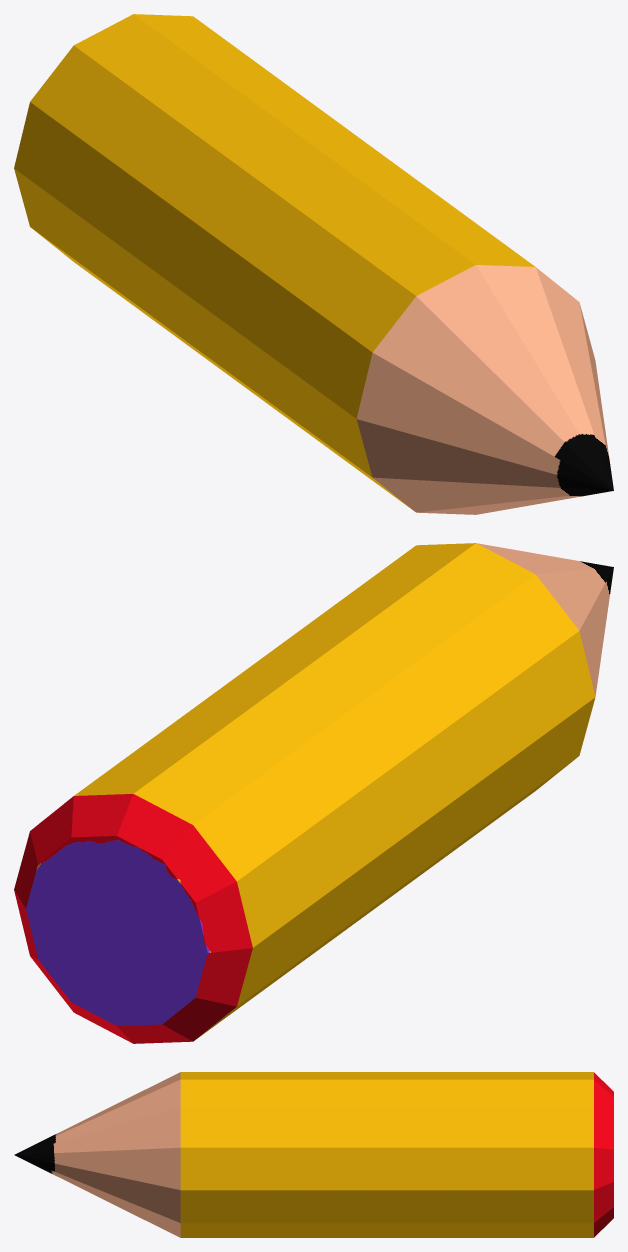
Rendered from Pencil.obj.
3 renders of one model, top to bottom at view 1: azimuth 30°, elevation 25°; view 2: azimuth 150°, elevation 25°; view 3: azimuth 270°, elevation 25°, orthographic. The views are drawn at different scales.
Visible parts, largest first — view 1: Cone.001_Cone.002; view 2: Cone.001_Cone.002; view 3: Cone.001_Cone.002.
Part boxes in pixels (box(x1,y1,x2,y2)): Cone.001_Cone.002: box(14, 14, 613, 514); Cone.001_Cone.002: box(14, 543, 613, 1043); Cone.001_Cone.002: box(14, 1072, 613, 1237).
Bounding box in the file's own units: 1 × 1 × 3.6.
Materials: 1 (1 with a texture image).
